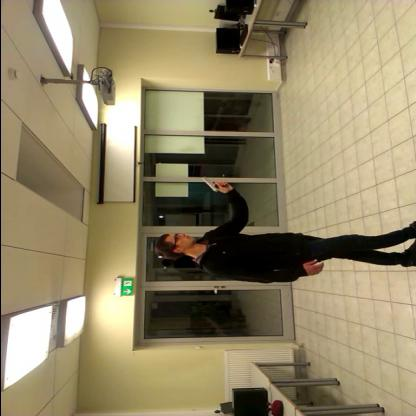Pistol: (198, 168, 235, 194)
